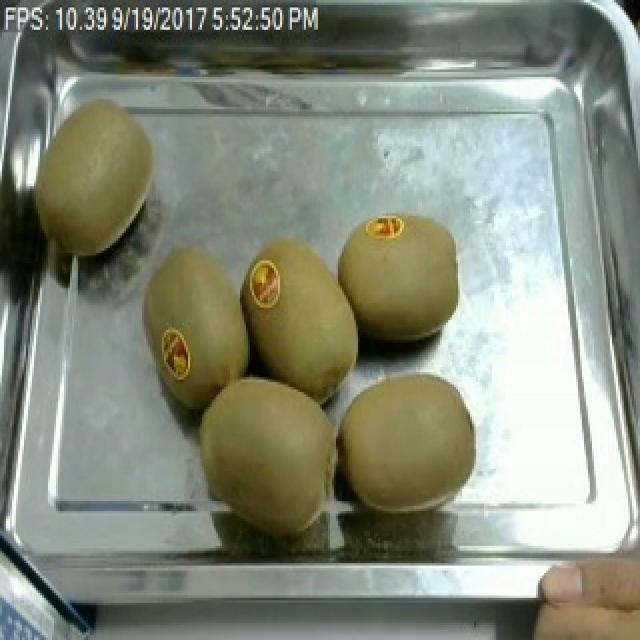Fruit: (186, 365, 346, 548), (24, 92, 166, 265), (334, 360, 486, 521), (238, 228, 372, 410), (132, 236, 262, 422), (330, 203, 472, 350), (516, 533, 640, 640)
